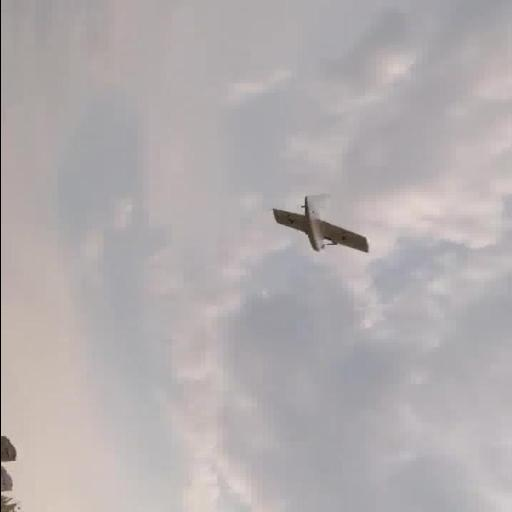uav: (260, 193, 373, 255)
